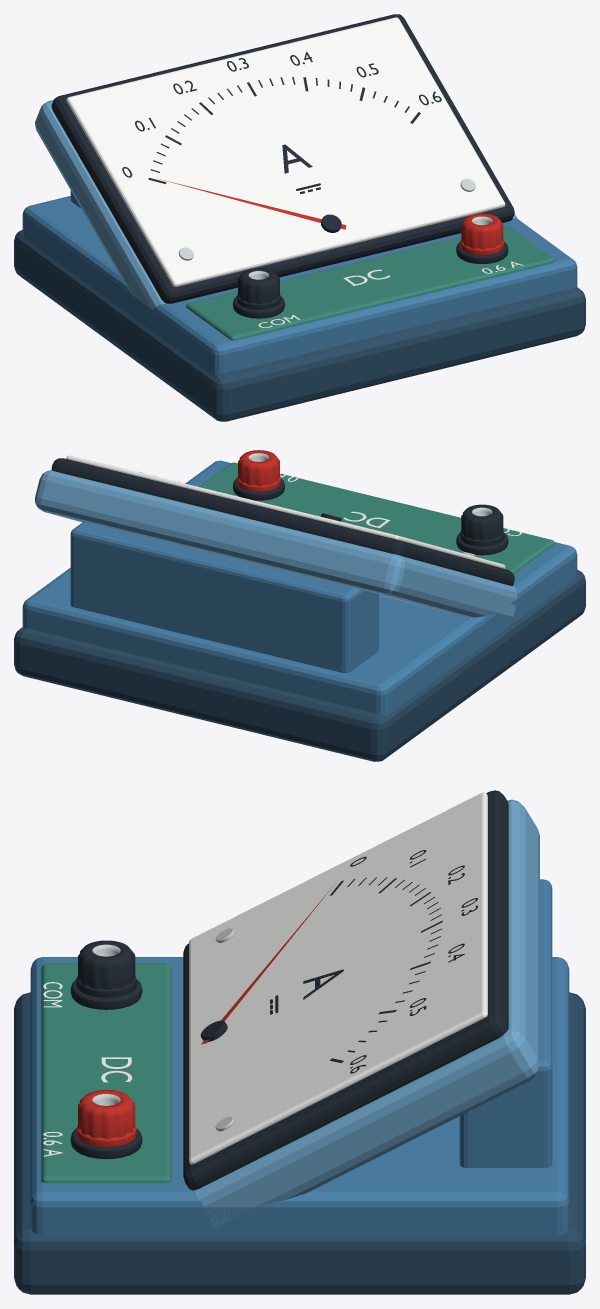
The model's file is analog-ammeter.glb.
The picture shows the model from 3 angles, top to bottom: view 1: azimuth 30°, elevation 25°; view 2: azimuth 150°, elevation 25°; view 3: azimuth 270°, elevation 25°; orthographic projection. The views are drawn at different scales.
Parts seen in each view (by area): view 1: Matte dial face, Meter molded base, Meter main shell, Contact panel, Dial meter bezel, Dial meter housing, p binding socket, n binding socket, Scale divisions, n socket washer, p socket washer; view 2: Rear support, Meter molded base, Meter main shell, Dial meter housing, Contact panel, Dial meter bezel, Matte dial face, n binding socket, p binding socket, n socket washer, p socket washer; view 3: Matte dial face, Meter main shell, Meter molded base, Dial meter housing, Contact panel, Dial meter bezel, Rear support, n binding socket, p binding socket, n socket washer, p socket washer, Scale divisions.
Boxes of the visible parts, x1,y1,x2,y2 form: Matte dial face: [66, 17, 505, 286]; Meter molded base: [14, 229, 585, 421]; Meter main shell: [22, 196, 577, 375]; Contact panel: [186, 226, 554, 340]; Dial meter bezel: [51, 14, 514, 303]; Dial meter housing: [35, 100, 517, 314]; p binding socket: [461, 213, 503, 249]; n binding socket: [238, 268, 279, 303]; Scale divisions: [148, 77, 420, 184]; n socket washer: [233, 296, 284, 318]; p socket washer: [456, 241, 508, 263]; Rear support: [70, 521, 378, 672]; Meter molded base: [14, 569, 585, 761]; Meter main shell: [22, 460, 577, 715]; Dial meter housing: [35, 470, 517, 617]; Contact panel: [199, 462, 554, 574]; Dial meter bezel: [51, 458, 514, 585]; Matte dial face: [66, 455, 505, 568]; n binding socket: [461, 504, 503, 540]; p binding socket: [238, 450, 279, 486]; n socket washer: [456, 533, 508, 555]; p socket washer: [233, 478, 284, 500]; Matte dial face: [189, 792, 487, 1164]; Meter main shell: [30, 957, 569, 1236]; Meter molded base: [14, 992, 585, 1294]; Dial meter housing: [193, 799, 539, 1227]; Contact panel: [41, 963, 171, 1183]; Dial meter bezel: [183, 790, 508, 1190]; Rear support: [459, 879, 552, 1167]; n binding socket: [78, 940, 135, 989]; p binding socket: [78, 1089, 135, 1139]; n socket washer: [70, 979, 142, 1009]; p socket washer: [70, 1128, 142, 1159]; Scale divisions: [329, 877, 442, 1062].
Bounding box in the file's own units: 0.14 × 0.0733 × 0.136.
